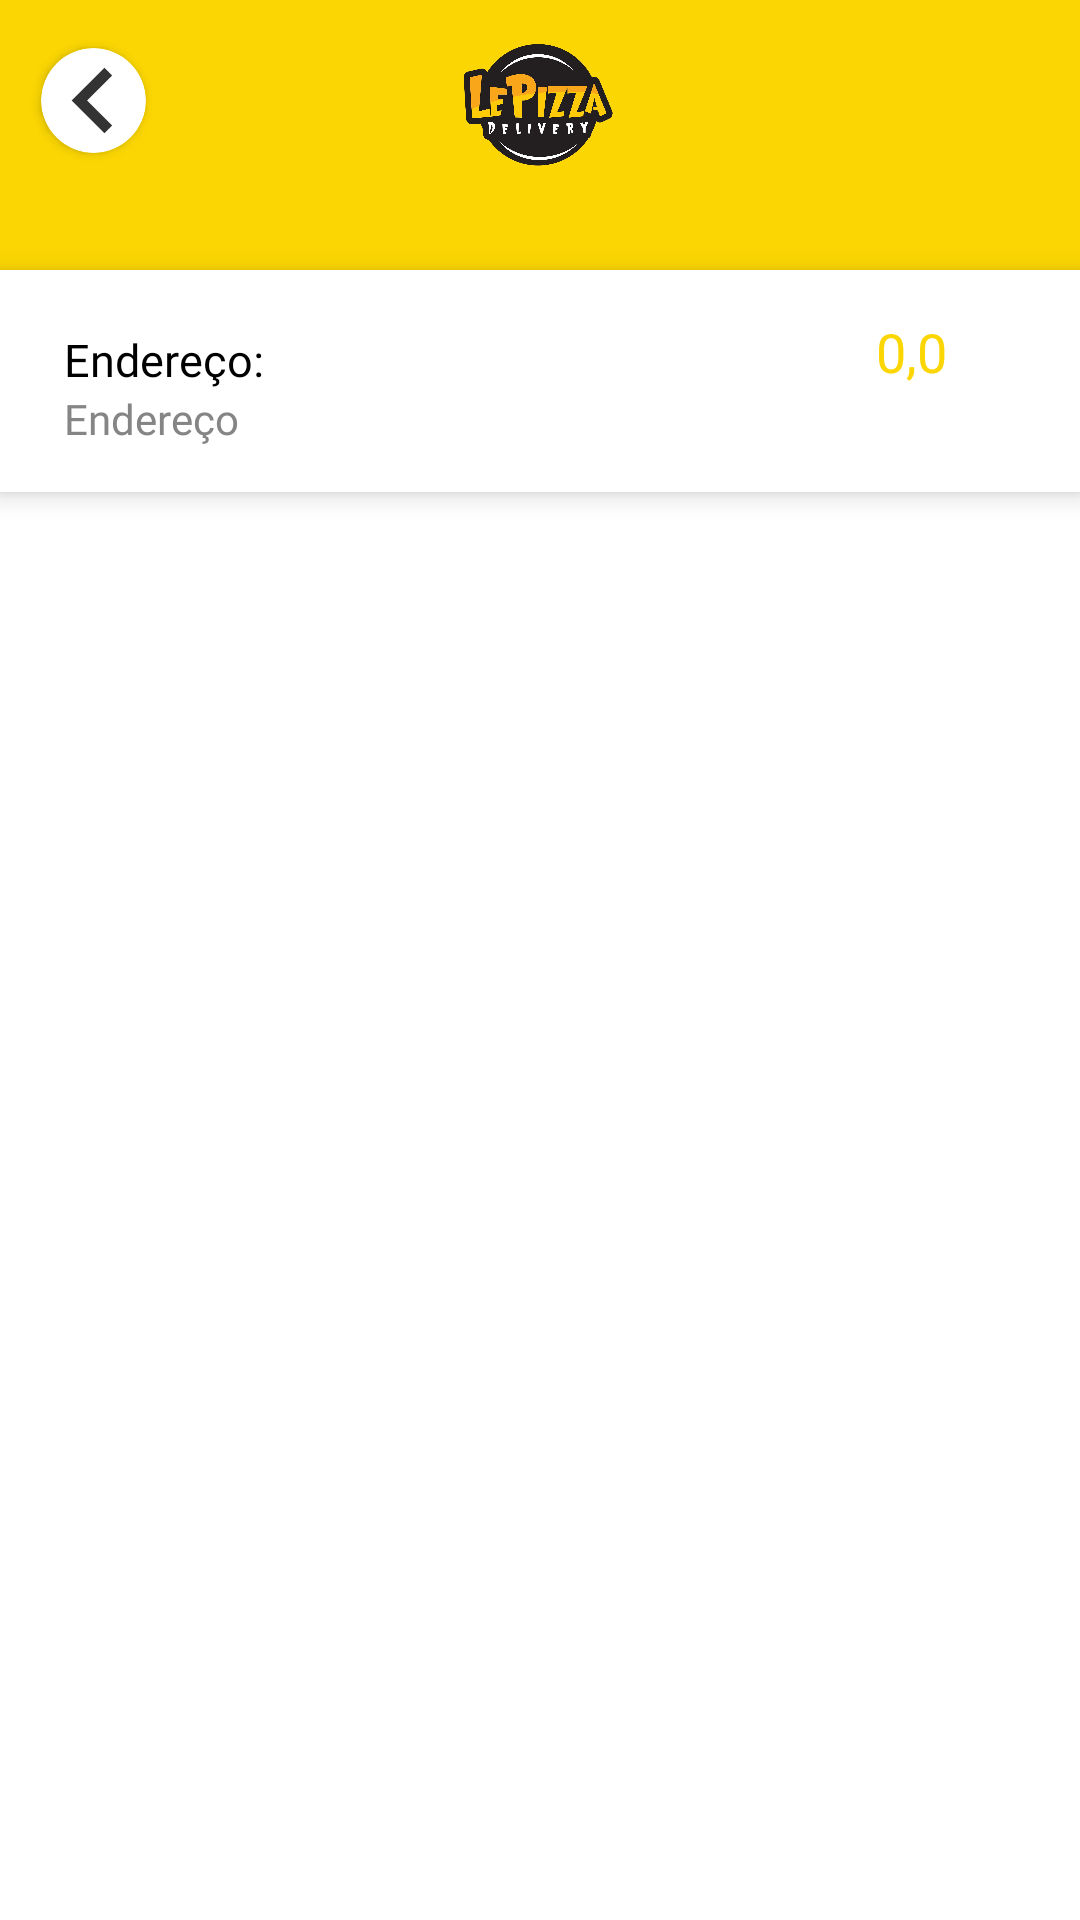

Locate icon controls on the screen. Image size 1080w x 1920h, boxes as bbox=[x1, y1, x2, y2].
left arrow: bbox=[41, 48, 146, 153]
